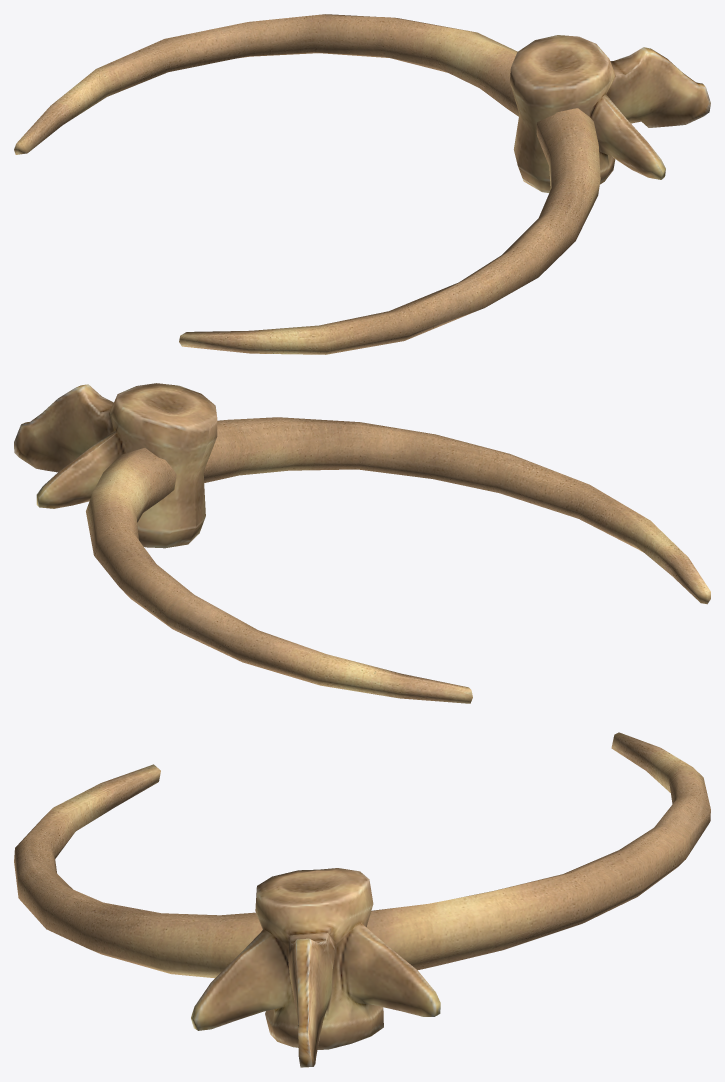
Rendered from bone_01.FBX.
3 views of the same model, one above another, from view 1: azimuth 30°, elevation 25°; view 2: azimuth 150°, elevation 25°; view 3: azimuth 270°, elevation 25° (orthographic). The views are drawn at different scales.
Visible parts, largest first — view 1: bone_01; view 2: bone_01; view 3: bone_01.
Part boxes in pixels (x1=…): bone_01: x1=14, y1=14, x2=710, y2=354; bone_01: x1=14, y1=383, x2=710, y2=703; bone_01: x1=14, y1=732, x2=710, y2=1067.
Bounding box in the file's own units: 60.25 × 13.23 × 51.4.
